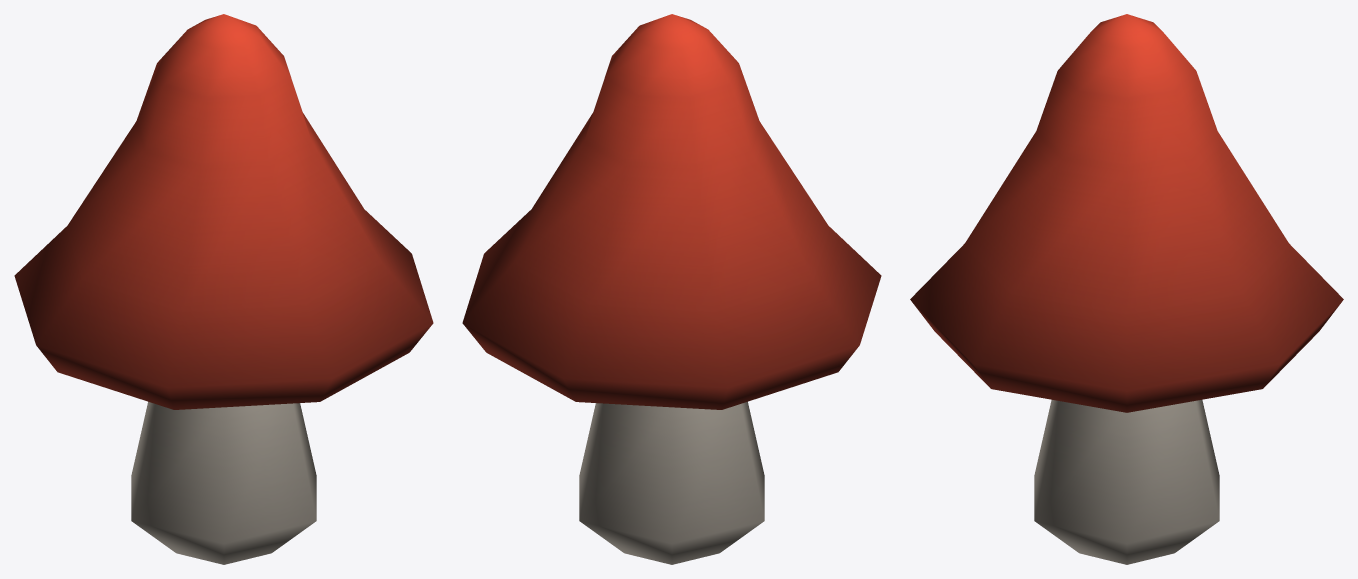
Rendered from SM_Mushroom_3.fbx.
3 views of the same model, side by side, from view 1: azimuth 30°, elevation 25°; view 2: azimuth 150°, elevation 25°; view 3: azimuth 270°, elevation 25° (orthographic).
Parts seen in each view (by area): view 1: Mushroom_3; view 2: Mushroom_3; view 3: Mushroom_3.
Part boxes in pixels (<box>): Mushroom_3: <box>14,14,433,564</box>; Mushroom_3: <box>462,14,881,564</box>; Mushroom_3: <box>910,14,1343,564</box>.
Size of the model in its own units: 212 by 284 by 212.
1 material, 1 textured.
